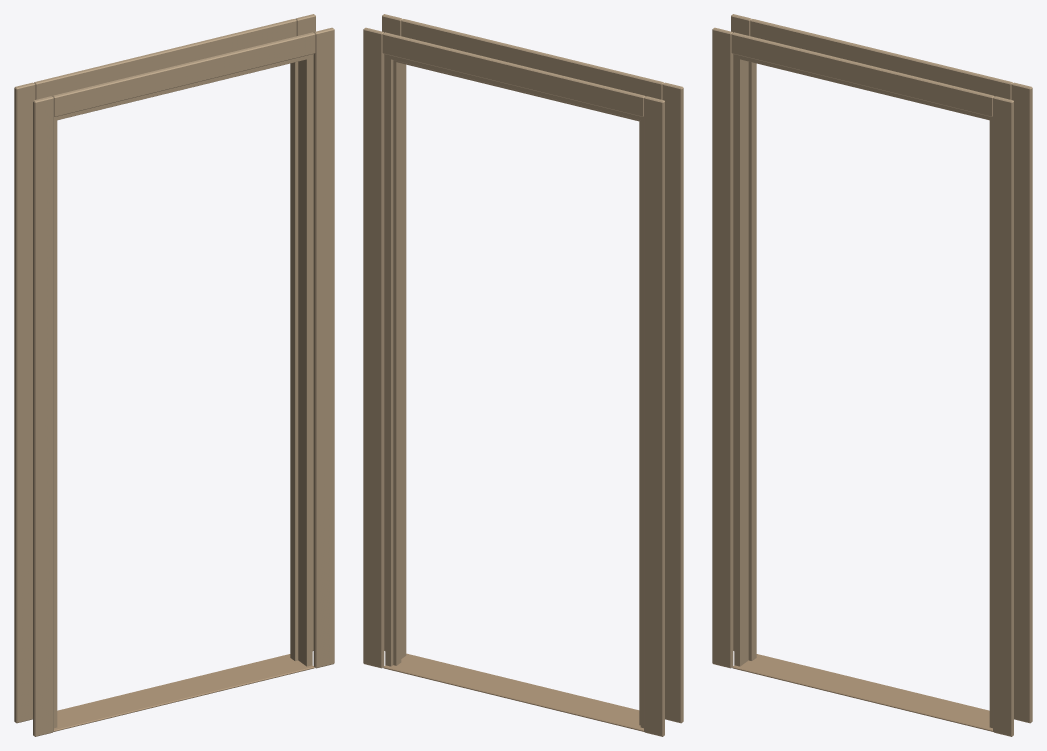
The model's file is door-frame.glb.
The picture shows the model from 3 angles, left to right: view 1: azimuth 30°, elevation 25°; view 2: azimuth 150°, elevation 25°; view 3: azimuth 330°, elevation 25°; orthographic projection.
Visible parts, largest first — view 1: casing.007, casing.003, casing.002, casing.004, casing.011, casing.005, sill, casing.010, casing, casing.006, casing.008; view 2: casing.006, casing.002, casing.003, casing.004, casing.010, casing.005, sill, casing.011, casing, casing.007, casing.001, casing.008; view 3: casing.003, casing.007, casing.006, casing, casing.011, casing.001, sill, casing.010, casing.004, casing.002, casing.008.
Part boxes in pixels (x1,y1,x2,y2): casing.007: [313, 27, 334, 668]; casing.003: [33, 96, 53, 736]; casing.002: [14, 82, 35, 723]; casing.004: [298, 58, 312, 666]; casing.011: [52, 32, 315, 116]; casing.005: [290, 61, 298, 660]; sill: [54, 654, 314, 731]; casing.010: [34, 19, 296, 99]; casing: [54, 120, 57, 728]; casing.006: [295, 14, 315, 650]; casing.008: [54, 54, 312, 120]; casing.006: [363, 27, 384, 668]; casing.002: [644, 96, 664, 736]; casing.003: [662, 82, 683, 723]; casing.004: [385, 54, 406, 666]; casing.010: [382, 32, 645, 116]; casing.005: [393, 60, 401, 665]; sill: [383, 653, 643, 731]; casing.011: [401, 19, 663, 99]; casing: [640, 116, 643, 728]; casing.007: [382, 14, 402, 650]; casing.001: [639, 120, 640, 725]; casing.008: [385, 54, 640, 120]; casing.003: [712, 27, 733, 668]; casing.007: [993, 96, 1013, 736]; casing.006: [1011, 82, 1032, 723]; casing: [734, 58, 748, 666]; casing.011: [731, 32, 994, 116]; casing.001: [748, 61, 756, 660]; sill: [732, 654, 992, 731]; casing.010: [750, 19, 1012, 99]; casing.004: [989, 120, 992, 728]; casing.002: [731, 14, 751, 650]; casing.008: [734, 54, 992, 120].
Size of the model in its own units: 1.08 by 2.19 by 0.132.
